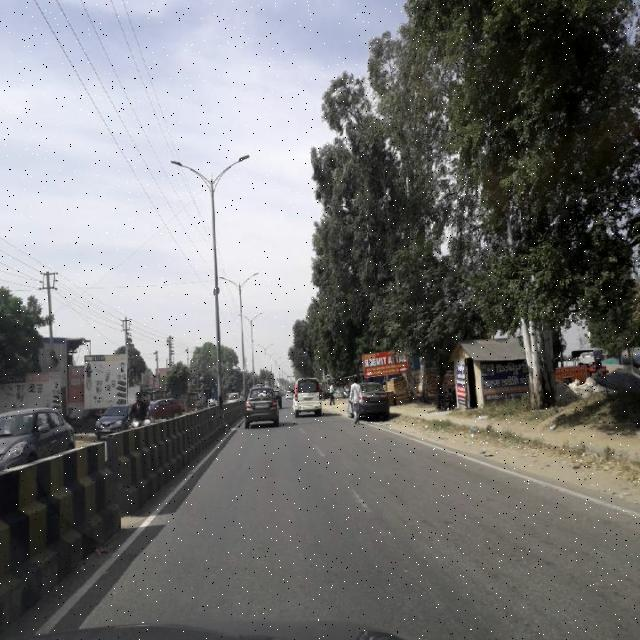D44: (342, 477, 380, 522)
